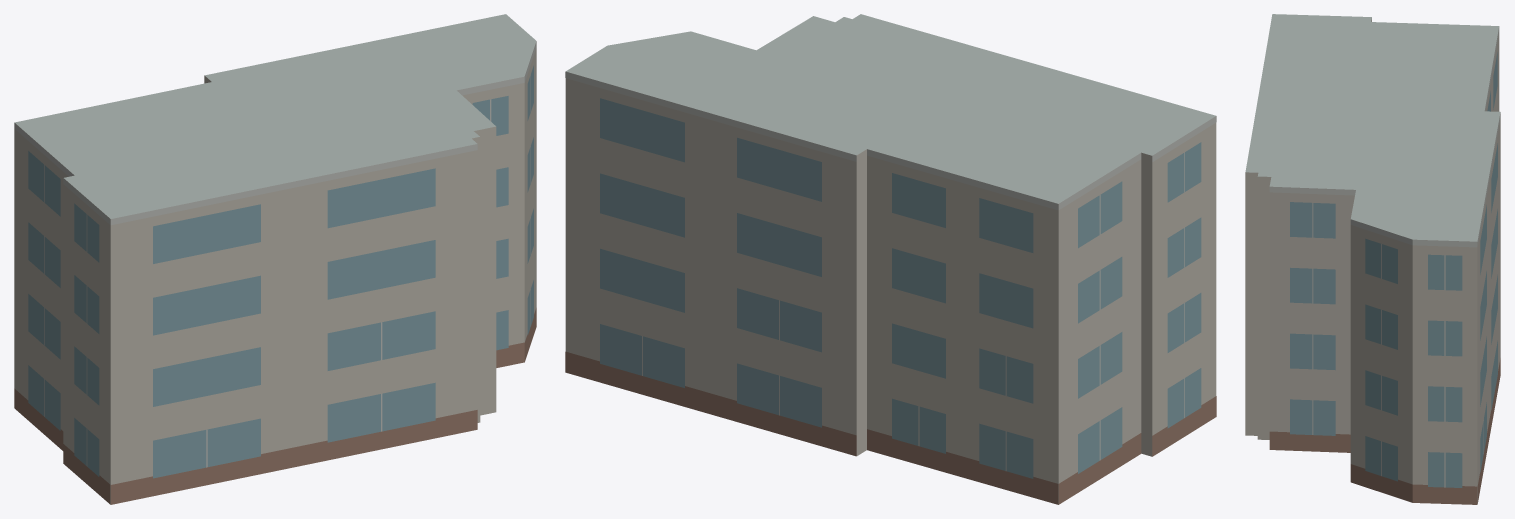
Rendered from survey-upis-32714036.glb.
The picture shows the model from 3 angles, left to right: view 1: azimuth 30°, elevation 25°; view 2: azimuth 150°, elevation 25°; view 3: azimuth 270°, elevation 25°; orthographic projection. The views are drawn at different scales.
Visible parts, largest first — view 1: survey-upis-32714036.tmp; view 2: survey-upis-32714036.tmp; view 3: survey-upis-32714036.tmp.
Part boxes in pixels (left/top/right/bottom): survey-upis-32714036.tmp: left=14, top=14, right=536, bottom=504; survey-upis-32714036.tmp: left=565, top=14, right=1216, bottom=504; survey-upis-32714036.tmp: left=1245, top=14, right=1500, bottom=504.
Bounding box in the file's own units: 20.88 × 11.25 × 9.9.
